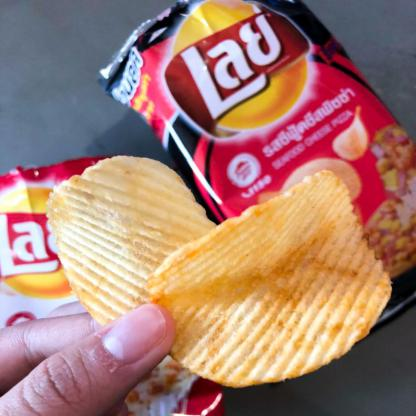potatochip: (86, 1, 415, 340), (0, 138, 250, 416)
